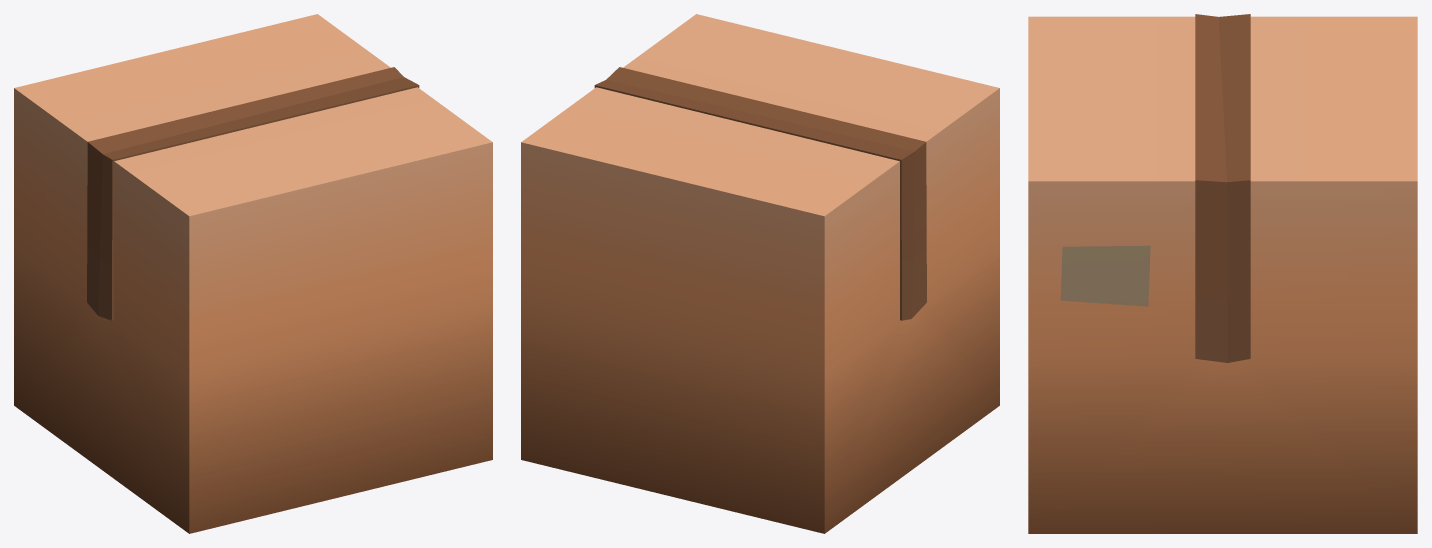
File: Cardboard Box.glb
The picture shows the model from 3 angles, left to right: view 1: azimuth 30°, elevation 25°; view 2: azimuth 150°, elevation 25°; view 3: azimuth 270°, elevation 25°; orthographic projection. The views are drawn at different scales.
Parts seen in each view (by area): view 1: cardboard_box; view 2: cardboard_box; view 3: cardboard_box.
Boxes of the visible parts, x1=… form: cardboard_box: x1=14, y1=14, x2=492, y2=533; cardboard_box: x1=521, y1=14, x2=999, y2=533; cardboard_box: x1=1028, y1=14, x2=1417, y2=533.
Bounding box in the file's own units: 1.02 × 1.01 × 1.
Materials: 1 (1 with a texture image).
